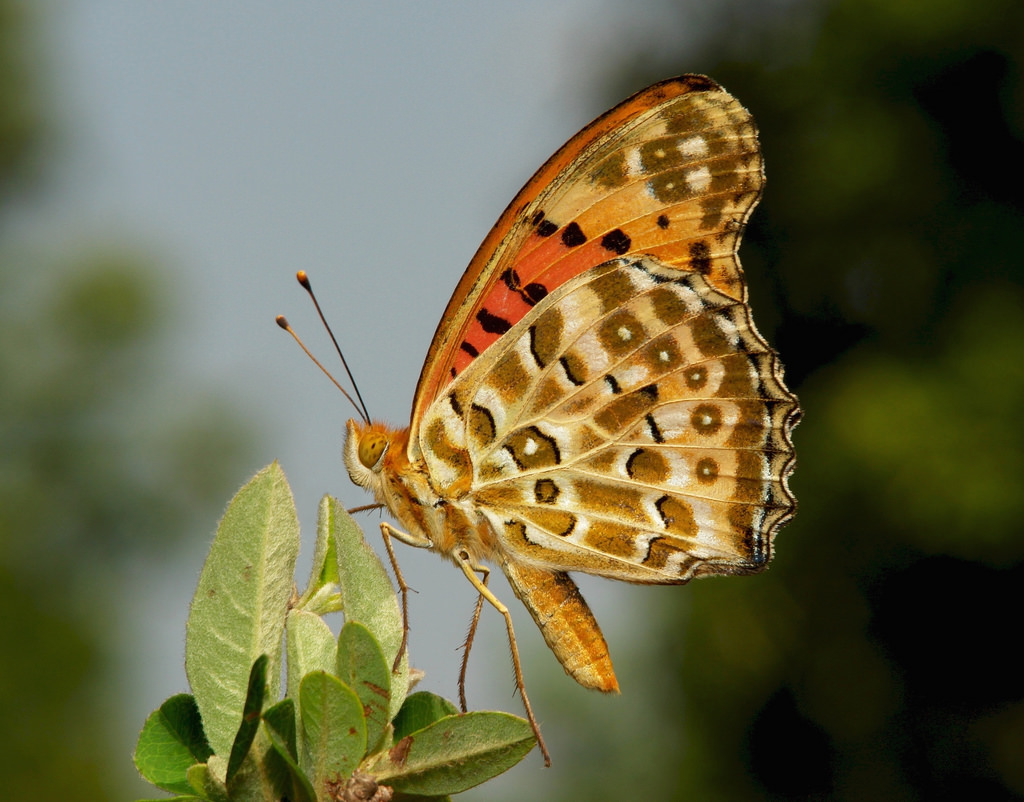Argyreus hyperbius: (264, 67, 811, 773)
butterfly: (262, 65, 809, 771)
